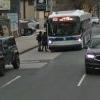Bus: (43, 9, 91, 50)
